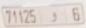1: (12, 10, 18, 24), (18, 10, 23, 24)
2: (23, 9, 30, 24)
5: (30, 10, 36, 24)
6: (72, 7, 80, 21)
7: (5, 10, 12, 24)
waw: (49, 11, 58, 23)
